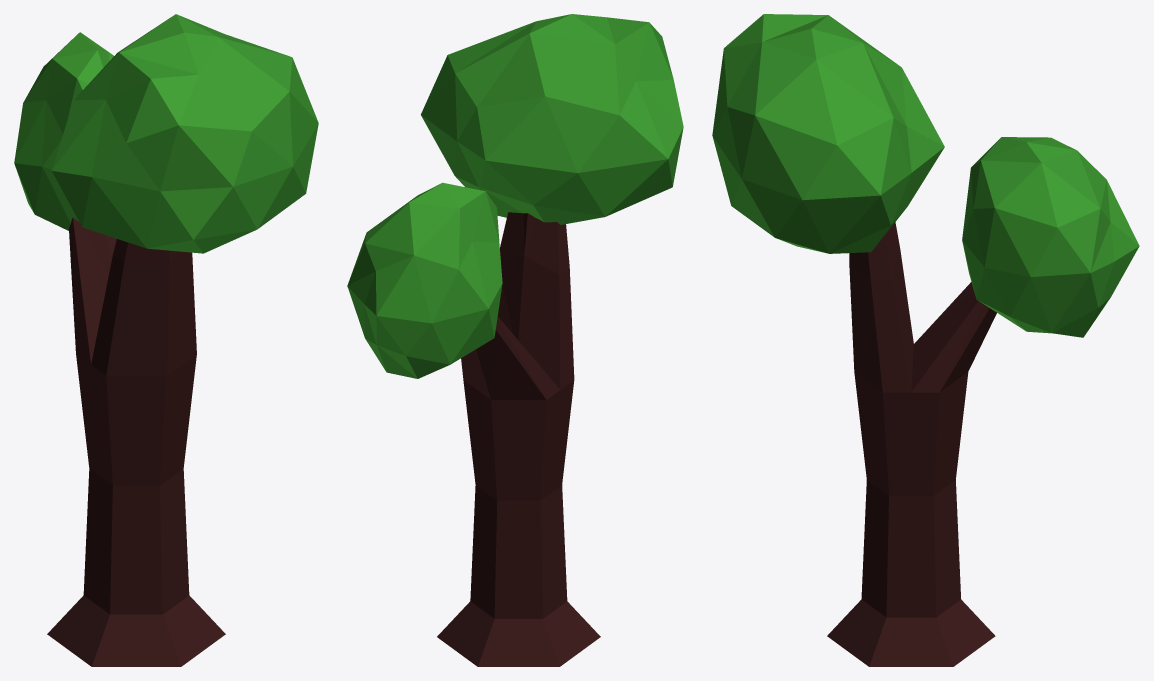
The model's file is tree_2.fbx.
The picture shows the model from 3 angles, left to right: view 1: azimuth 30°, elevation 25°; view 2: azimuth 150°, elevation 25°; view 3: azimuth 270°, elevation 25°; orthographic projection. The views are drawn at different scales.
Visible parts, largest first — view 1: 円柱.001; view 2: 円柱.001; view 3: 円柱.001.
Part boxes in pixels (left/top/right/bottom): 円柱.001: left=14, top=14, right=318, bottom=666; 円柱.001: left=347, top=14, right=683, bottom=666; 円柱.001: left=712, top=14, right=1139, bottom=666.
Bounding box in the file's own units: 146 × 360 × 231.
